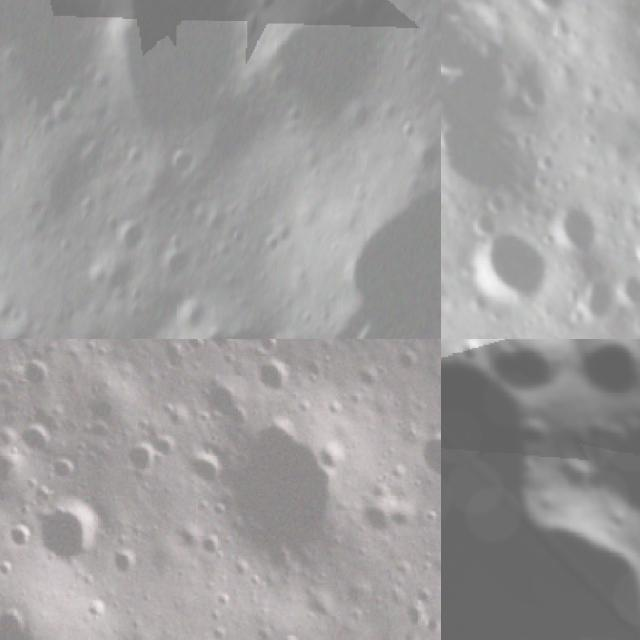crater: (191, 398, 376, 592), (82, 0, 296, 160), (236, 0, 405, 158), (0, 0, 175, 142), (315, 142, 441, 339), (451, 213, 567, 329), (459, 339, 597, 411), (141, 290, 327, 339), (20, 487, 113, 573), (0, 136, 35, 322), (558, 339, 640, 416), (538, 195, 614, 270), (562, 266, 631, 335), (193, 368, 256, 442), (82, 246, 148, 312), (347, 486, 406, 548), (0, 408, 63, 466), (102, 202, 160, 264), (507, 66, 565, 124), (148, 234, 200, 296), (113, 432, 168, 488), (175, 437, 229, 492), (406, 416, 441, 492), (104, 536, 151, 589), (11, 346, 59, 396), (248, 352, 299, 399), (0, 512, 45, 564), (514, 0, 583, 33), (471, 182, 519, 229), (606, 266, 640, 324), (40, 446, 84, 490), (350, 357, 391, 402), (389, 341, 432, 382), (76, 411, 116, 454), (462, 207, 502, 247), (441, 93, 462, 168), (150, 339, 192, 376), (216, 339, 287, 360), (190, 527, 227, 565), (263, 622, 309, 640), (179, 339, 212, 364)
